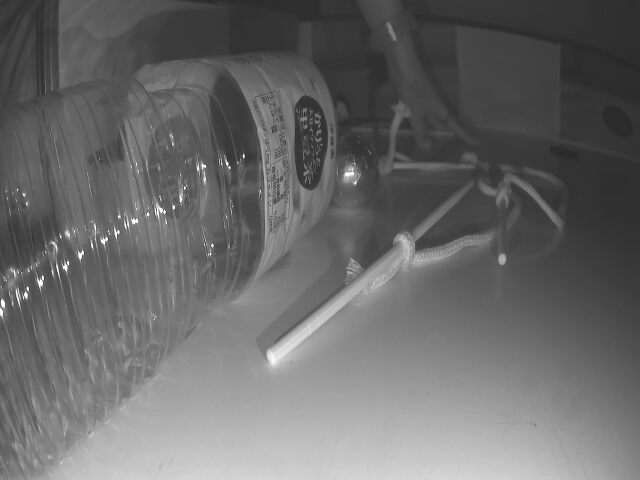Live: (328, 128, 377, 203)
